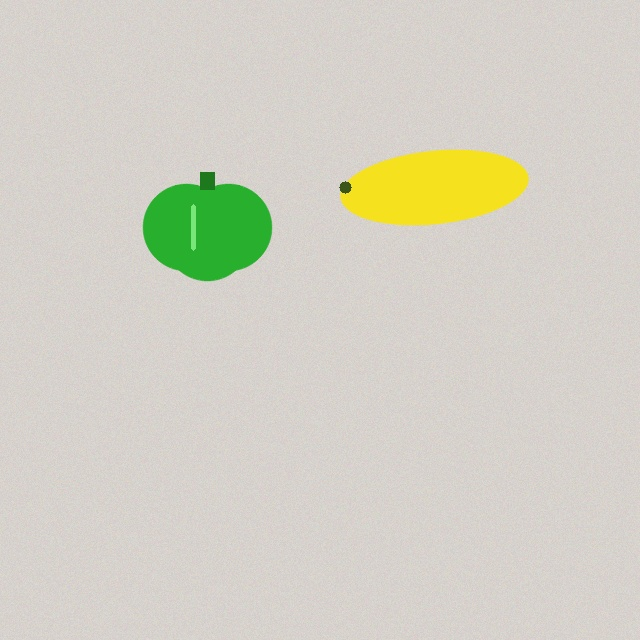Fresh banana: (336, 142, 532, 232)
Fresh bell pepper: (143, 172, 271, 280)
